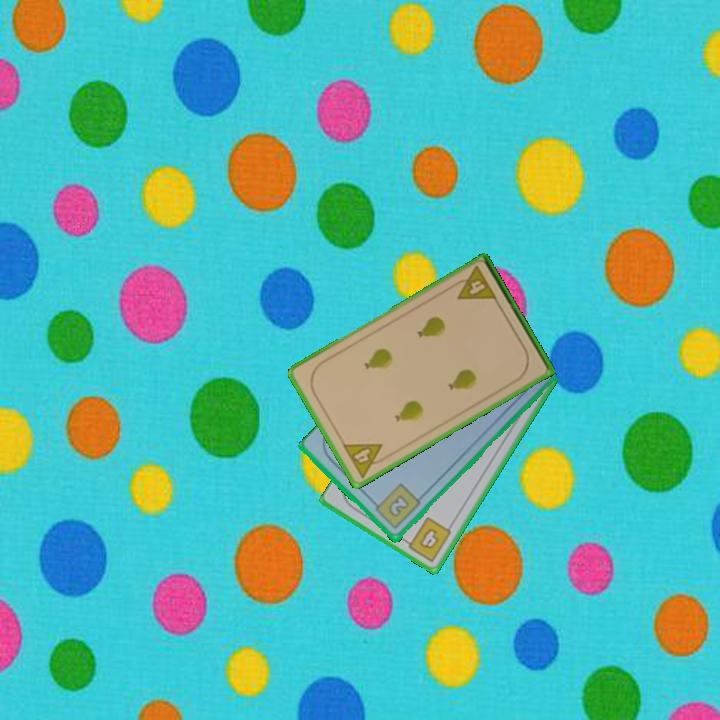2b: (369, 481, 423, 533)
4b: (400, 513, 454, 565)
4p: (339, 440, 392, 481), (448, 263, 500, 303)
